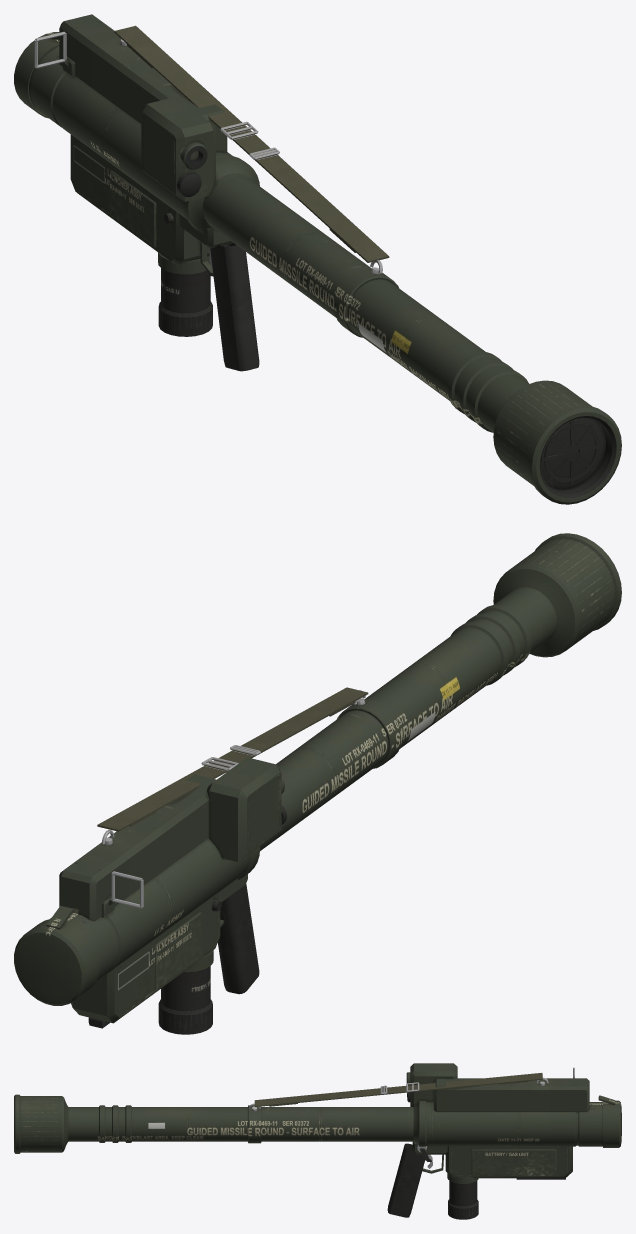
The model's file is mp_redeye.glb.
The picture shows the model from 3 angles, top to bottom: view 1: azimuth 30°, elevation 25°; view 2: azimuth 150°, elevation 25°; view 3: azimuth 270°, elevation 25°; orthographic projection. The views are drawn at different scales.
Parts seen in each view (by area): view 1: tube, grip, strap, cap_r, cap_f; view 2: tube, grip, cap_f, strap; view 3: tube, grip, strap, cap_f.
Part boxes in pixels (box(x1,y1,x2,y2)): tube: box(29, 14, 621, 504); grip: box(70, 134, 259, 371); strap: box(114, 25, 389, 262); cap_r: box(541, 417, 605, 489); cap_f: box(14, 32, 59, 118); tube: box(50, 533, 621, 981); grip: box(71, 874, 259, 1034); cap_f: box(14, 905, 99, 1005); strap: box(97, 687, 368, 831); tube: box(14, 1063, 602, 1153); grip: box(387, 1141, 572, 1219); strap: box(254, 1073, 542, 1106); cap_f: box(598, 1095, 621, 1147).
Size of the model in its own units: 0.1389 by 0.3327 by 1.29.
Materials: 2 (2 with a texture image).
